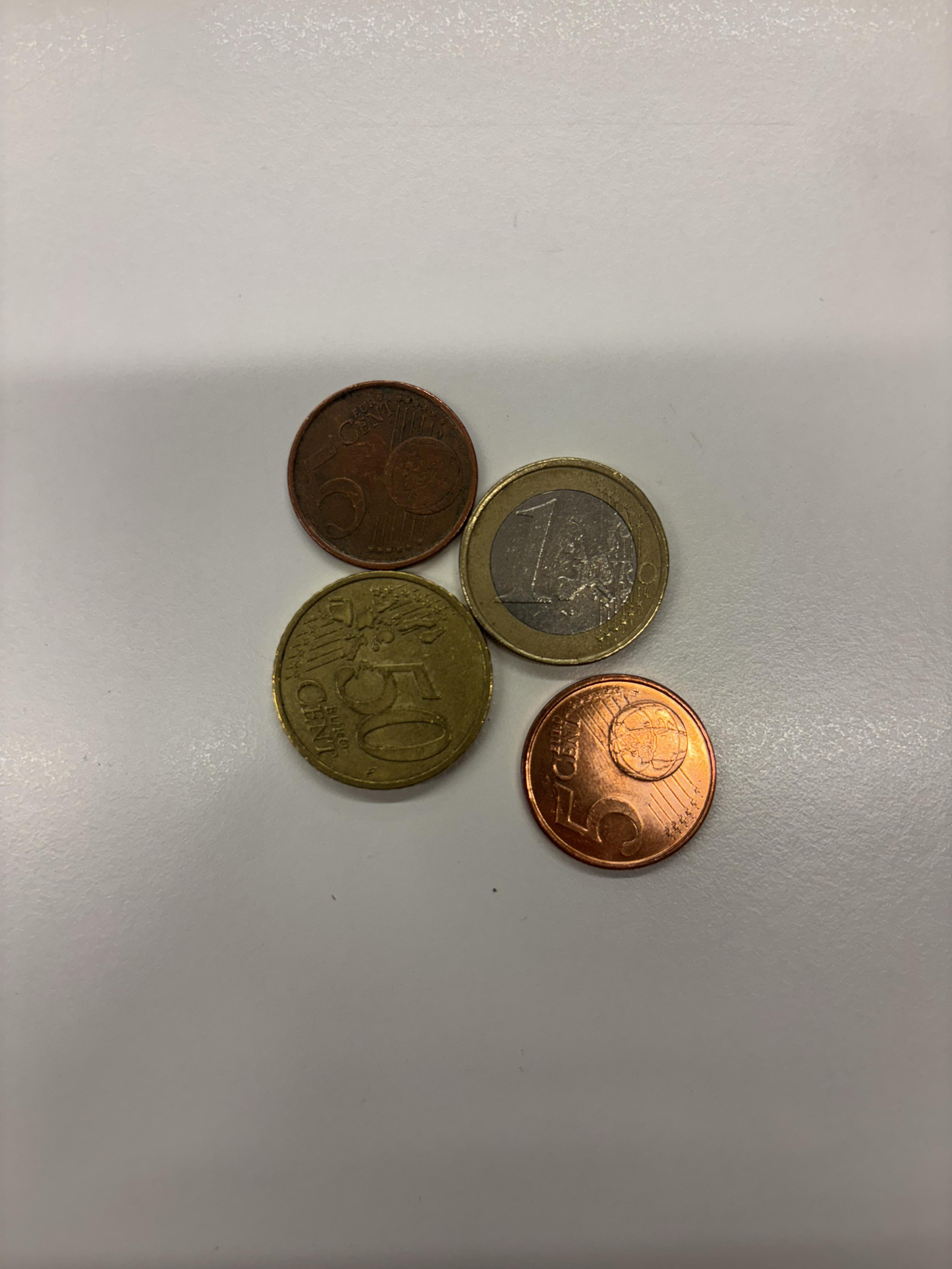1 euro: (459, 459, 670, 666)
5 cent: (522, 674, 717, 870), (287, 381, 479, 571)
50 cent: (271, 563, 497, 807)
